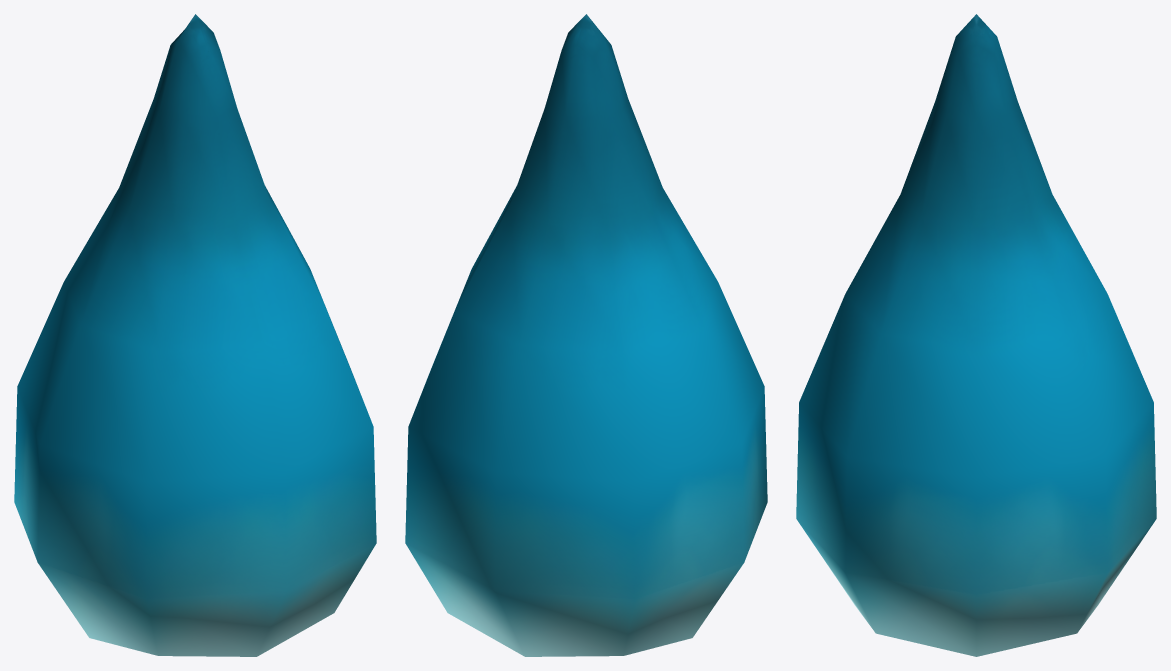
File: Drop.fbx
The picture shows the model from 3 angles, left to right: view 1: azimuth 30°, elevation 25°; view 2: azimuth 150°, elevation 25°; view 3: azimuth 270°, elevation 25°; orthographic projection.
Parts seen in each view (by area): view 1: Cube; view 2: Cube; view 3: Cube.
Boxes of the visible parts, x1,y1,x2,y2 form: Cube: (14, 14, 376, 656); Cube: (405, 14, 767, 656); Cube: (796, 14, 1156, 656).
Size of the model in its own units: 33.56 by 63.93 by 33.56.
